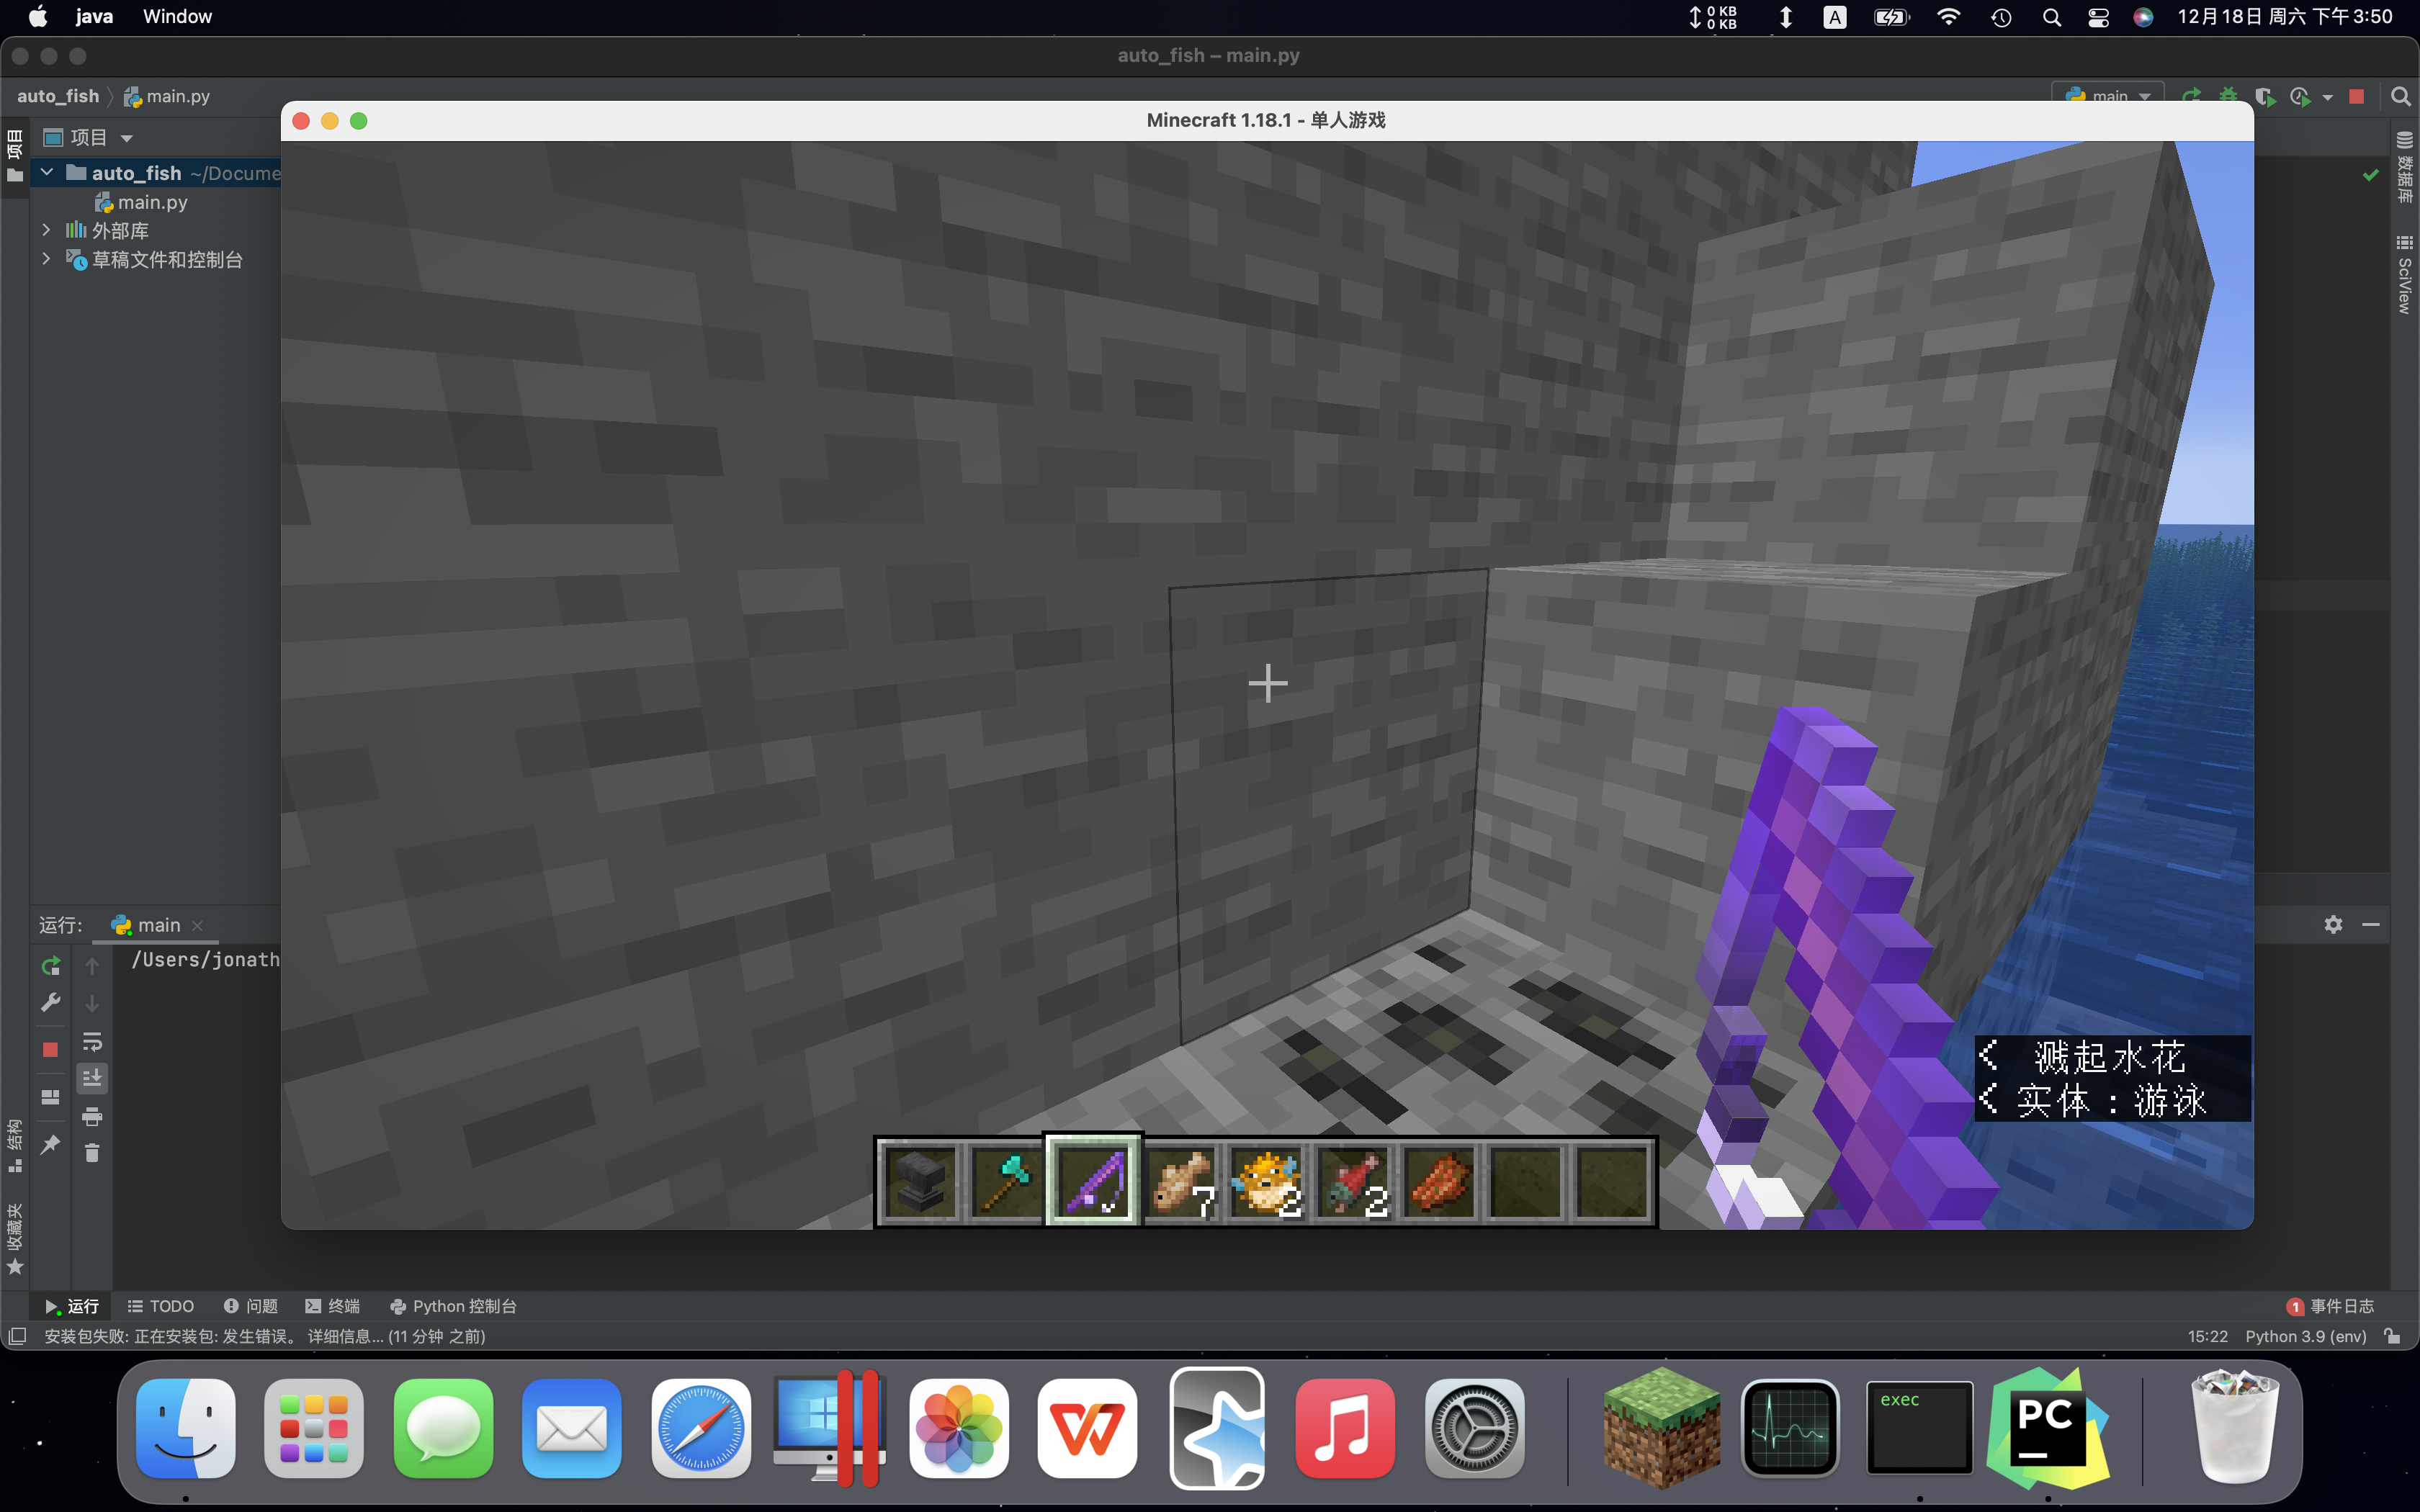inf: (1976, 1035, 2251, 1124)
